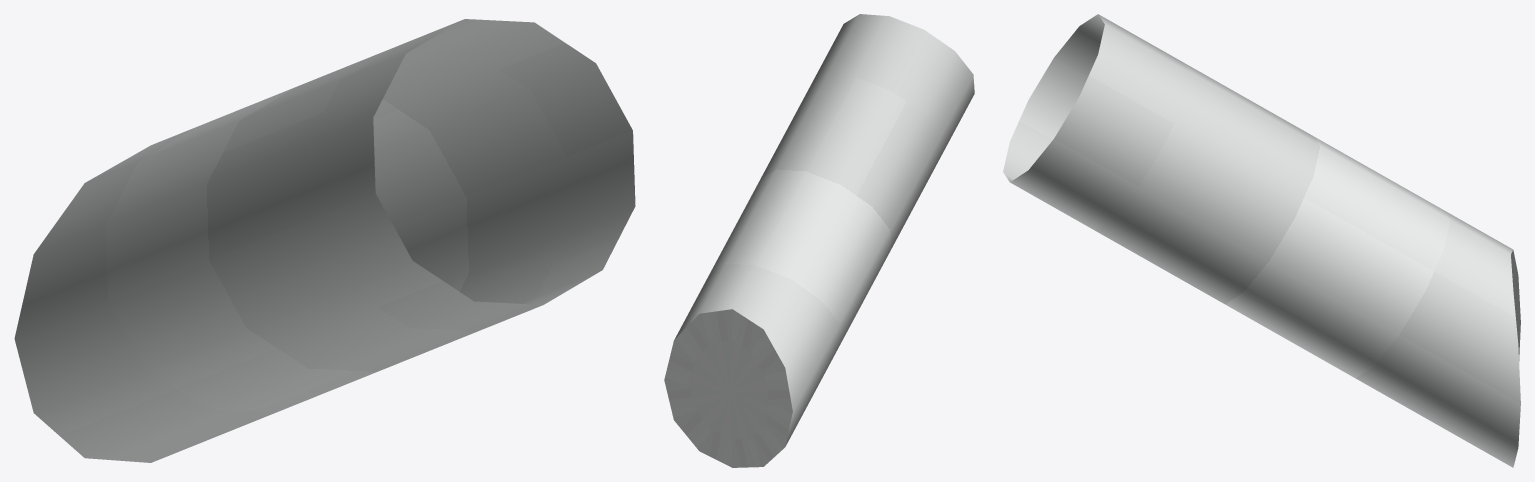
Rendered from luminairearm_truss12ftdouble_c10.obj.
3 renders of one model, left to right at view 1: azimuth 30°, elevation 25°; view 2: azimuth 150°, elevation 25°; view 3: azimuth 270°, elevation 25°, orthographic. The views are drawn at different scales.
Visible parts, largest first — view 1: luminairearm_truss12ftdouble_c10; view 2: luminairearm_truss12ftdouble_c10; view 3: luminairearm_truss12ftdouble_c10.
Part boxes in pixels (bbox=[...]): luminairearm_truss12ftdouble_c10: bbox=[14, 19, 635, 462]; luminairearm_truss12ftdouble_c10: bbox=[664, 14, 974, 467]; luminairearm_truss12ftdouble_c10: bbox=[1003, 14, 1520, 467].
Size of the model in its own units: 0.1562 by 0.391 by 0.4213.
